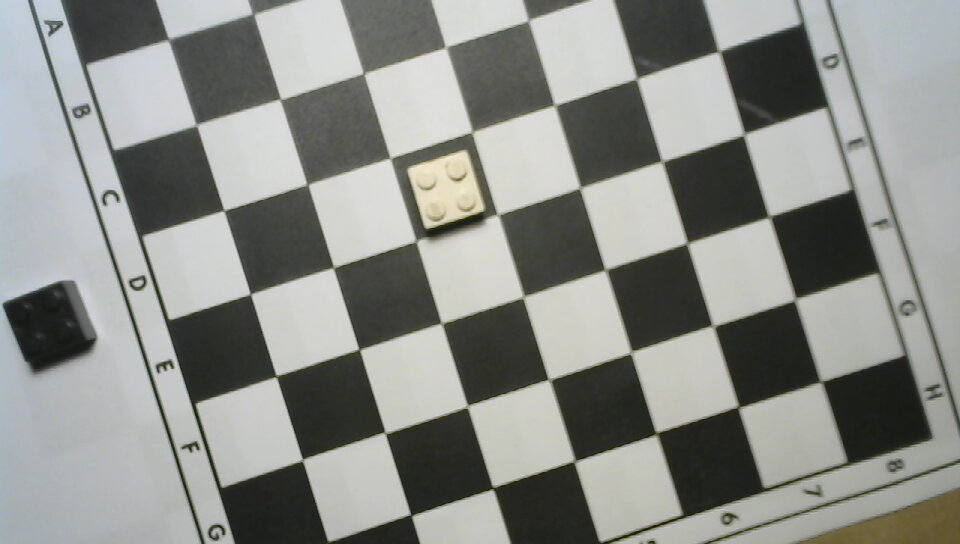wp: (399, 145, 490, 235)
